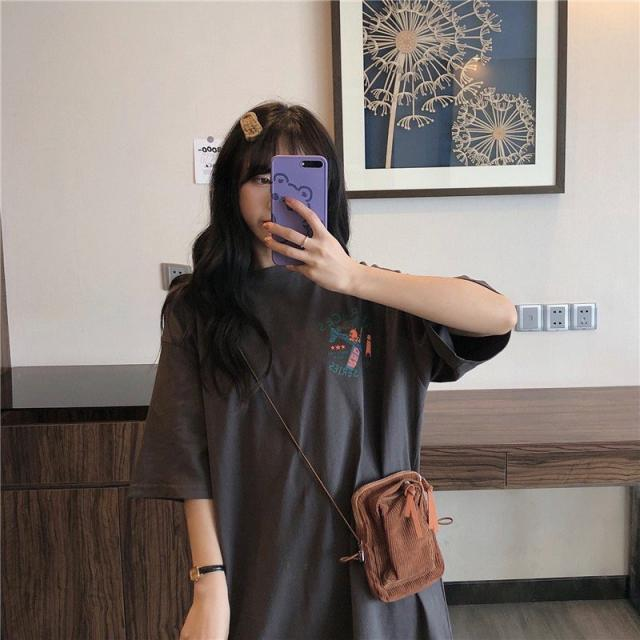Shirt: (126, 252, 514, 640)
